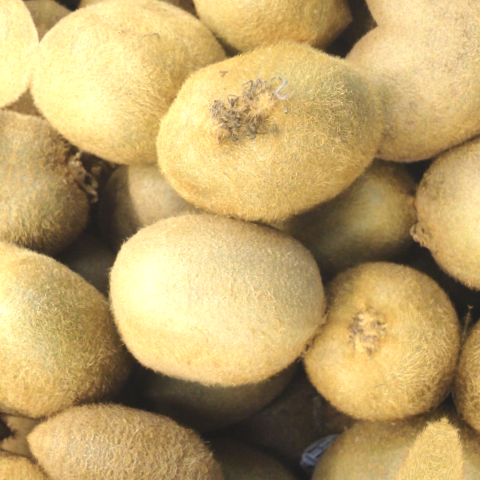kiwi: (85, 173, 365, 431), (128, 10, 412, 260), (15, 0, 237, 188), (273, 241, 477, 443)
